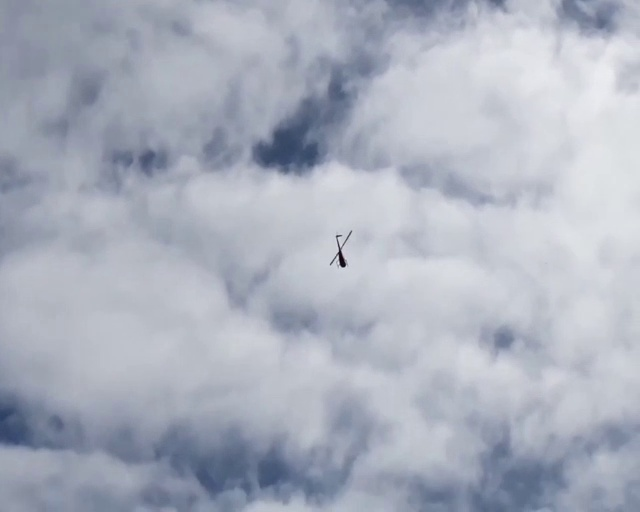HELICOPTER: (330, 230, 354, 268)
